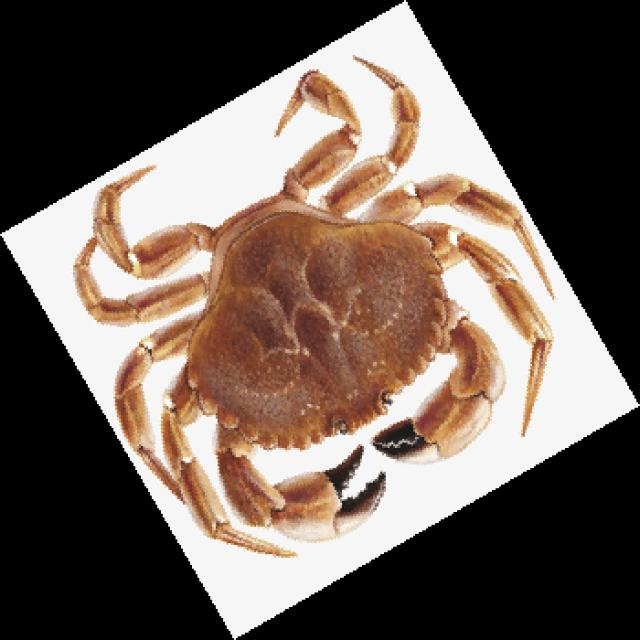Native Jonah crab: (73, 57, 552, 556)
